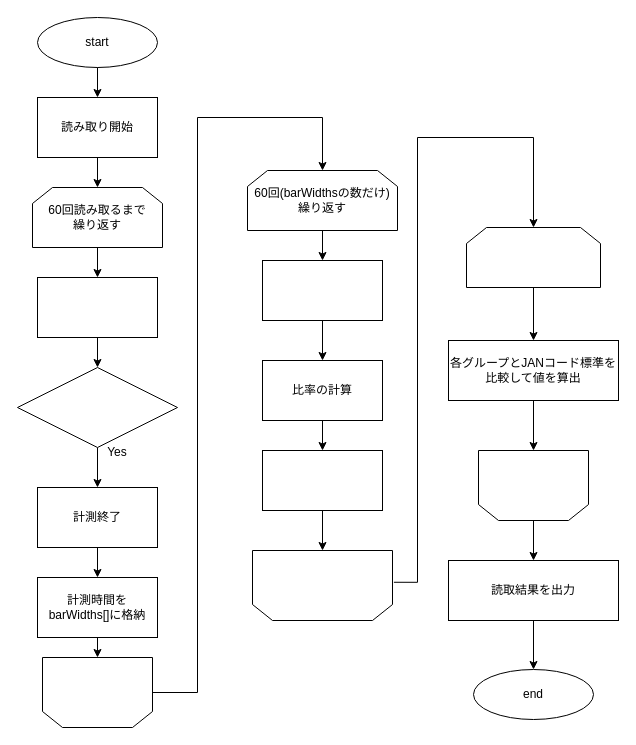
Image size: 636x745. Some labels were removed from this diagram. The centre of each missing label's shape, as x and y in pixels:
13回(グループの数だけ) 繰り返す: point (533, 257)
4つずつにグループ化: point (322, 480)
基準幅を計測: point (322, 290)
色が変化したか？: point (97, 407)
計測開始: point (97, 307)
